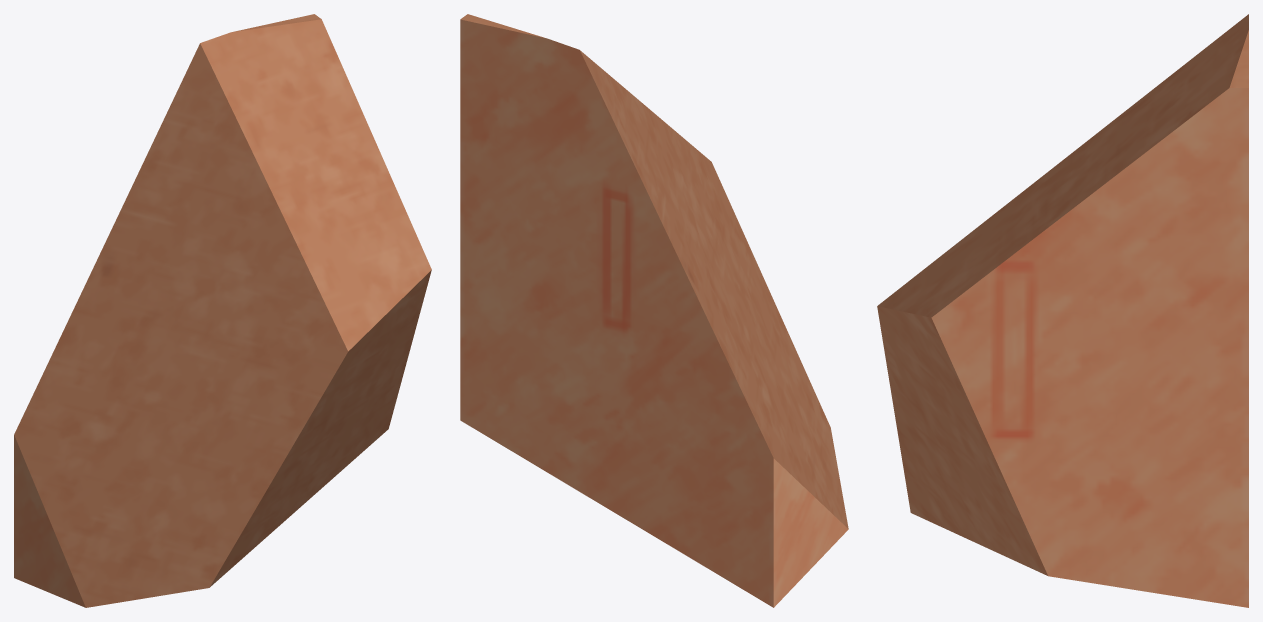
Rendered from townwall_tower_s05.fbx.
The picture shows the model from 3 angles, left to right: view 1: azimuth 30°, elevation 25°; view 2: azimuth 150°, elevation 25°; view 3: azimuth 270°, elevation 25°; orthographic projection. The views are drawn at different scales.
Visible parts, largest first — view 1: townwall_tower_s05; view 2: townwall_tower_s05; view 3: townwall_tower_s05.
Part boxes in pixels (x1=…): townwall_tower_s05: x1=14, y1=14, x2=431, y2=607; townwall_tower_s05: x1=460, y1=14, x2=848, y2=607; townwall_tower_s05: x1=877, y1=14, x2=1248, y2=607.
Bounding box in the file's own units: 6.6 × 10.34 × 5.23.
